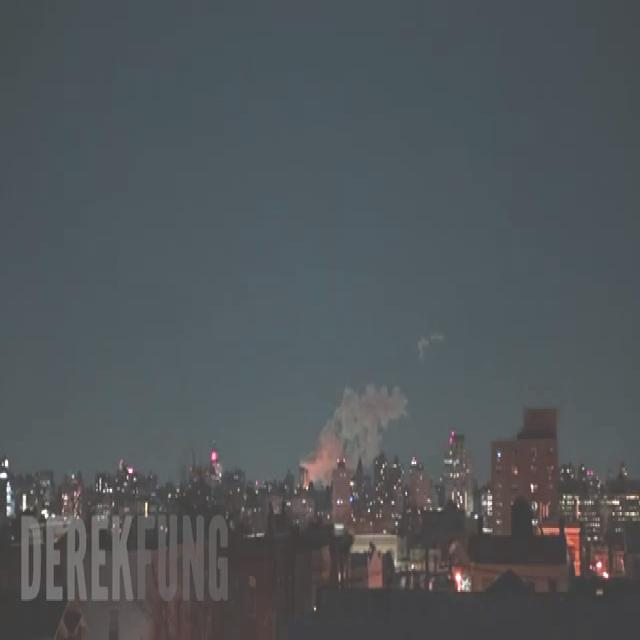smoke: (306, 384, 407, 482)
